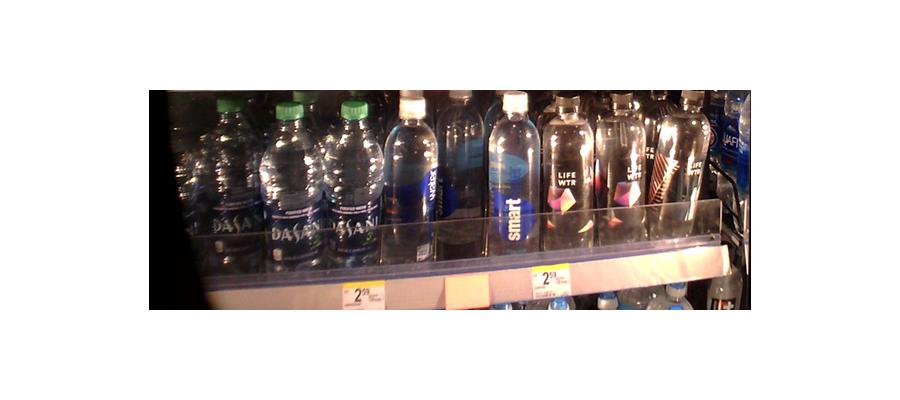bottle: (646, 84, 716, 248), (199, 95, 260, 277), (260, 96, 320, 275), (320, 97, 380, 271), (380, 92, 436, 267), (488, 95, 543, 254), (439, 90, 487, 262), (596, 90, 648, 241), (544, 96, 593, 249)
